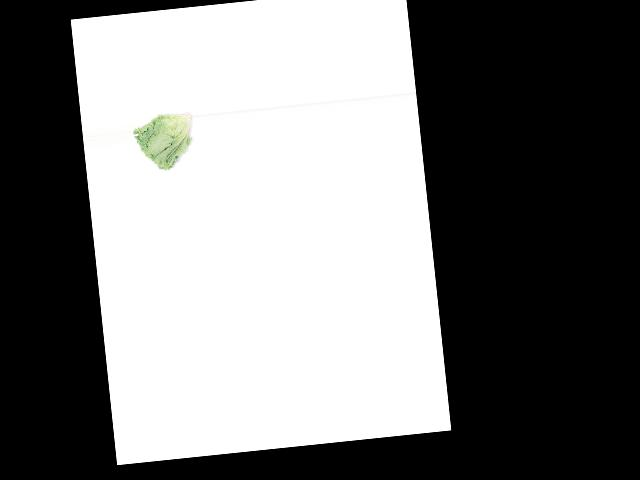lettuce: (131, 106, 199, 178)
